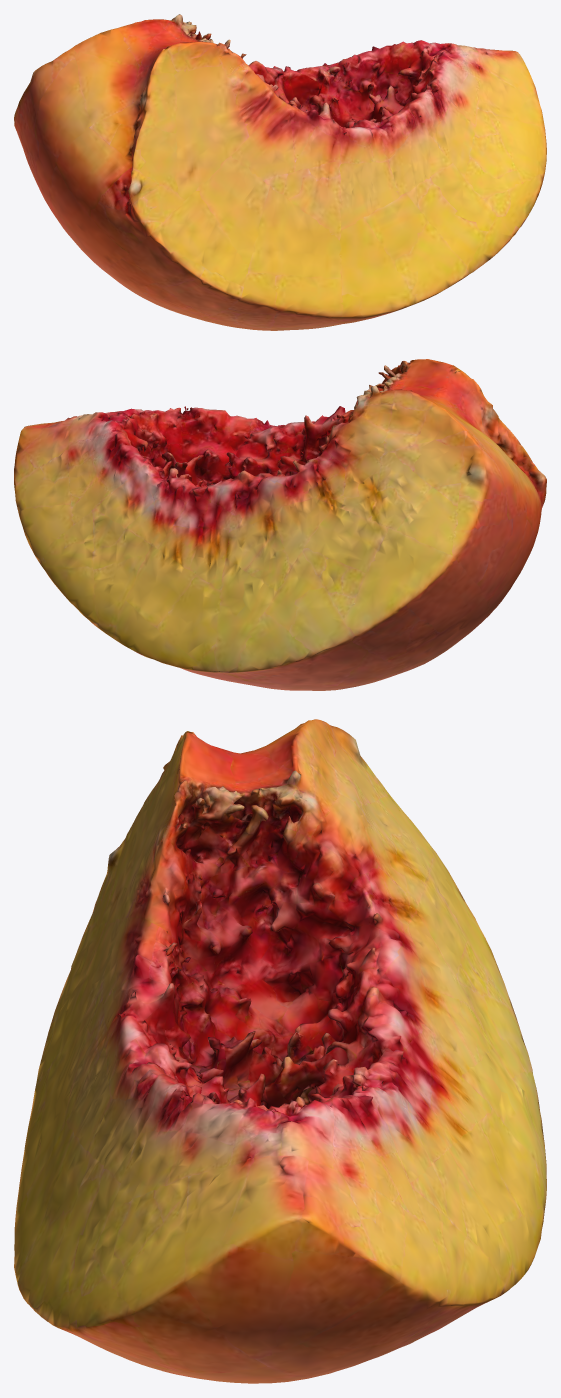
3 renders of one model, top to bottom at view 1: azimuth 30°, elevation 25°; view 2: azimuth 150°, elevation 25°; view 3: azimuth 270°, elevation 25°, orthographic. The views are drawn at different scales.
Size of the model in its own units: 1.9 by 1.2 by 1.18.
1 material, 1 textured.
